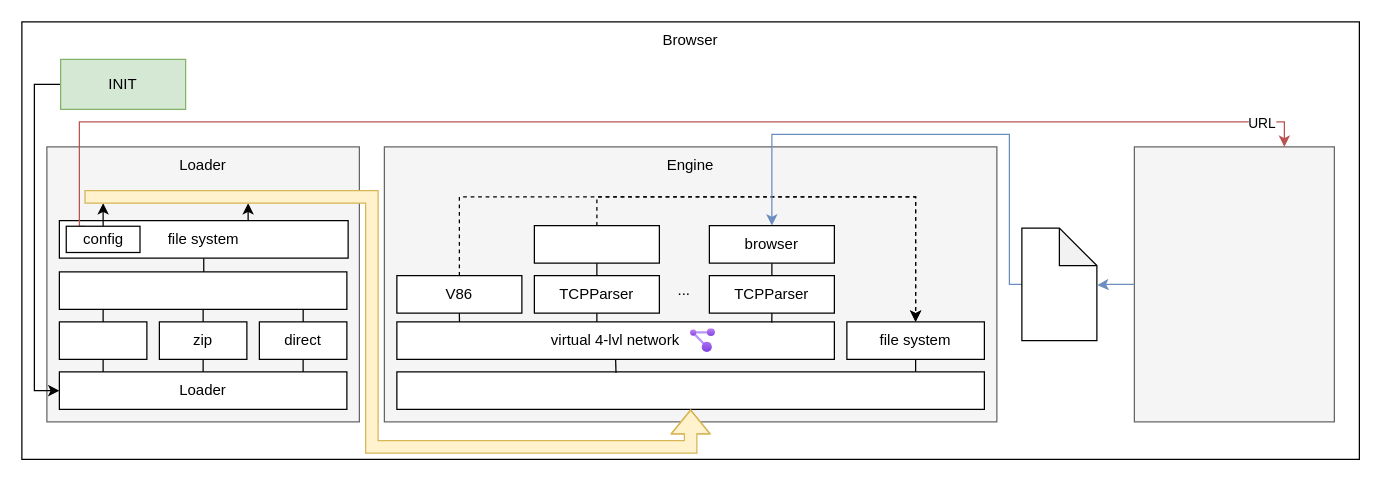
The diagram is 1381 pixels wide and 481 high, and some of its shapes have lost their labels. Each missing label, with the box of its shape:
API: (396, 371, 984, 409)
Apply diff (optional): (58, 271, 347, 309)
github: (58, 321, 147, 359)
IFrame: (1133, 146, 1334, 422)
static server: (533, 224, 659, 263)
SW.js: (1021, 227, 1097, 341)
